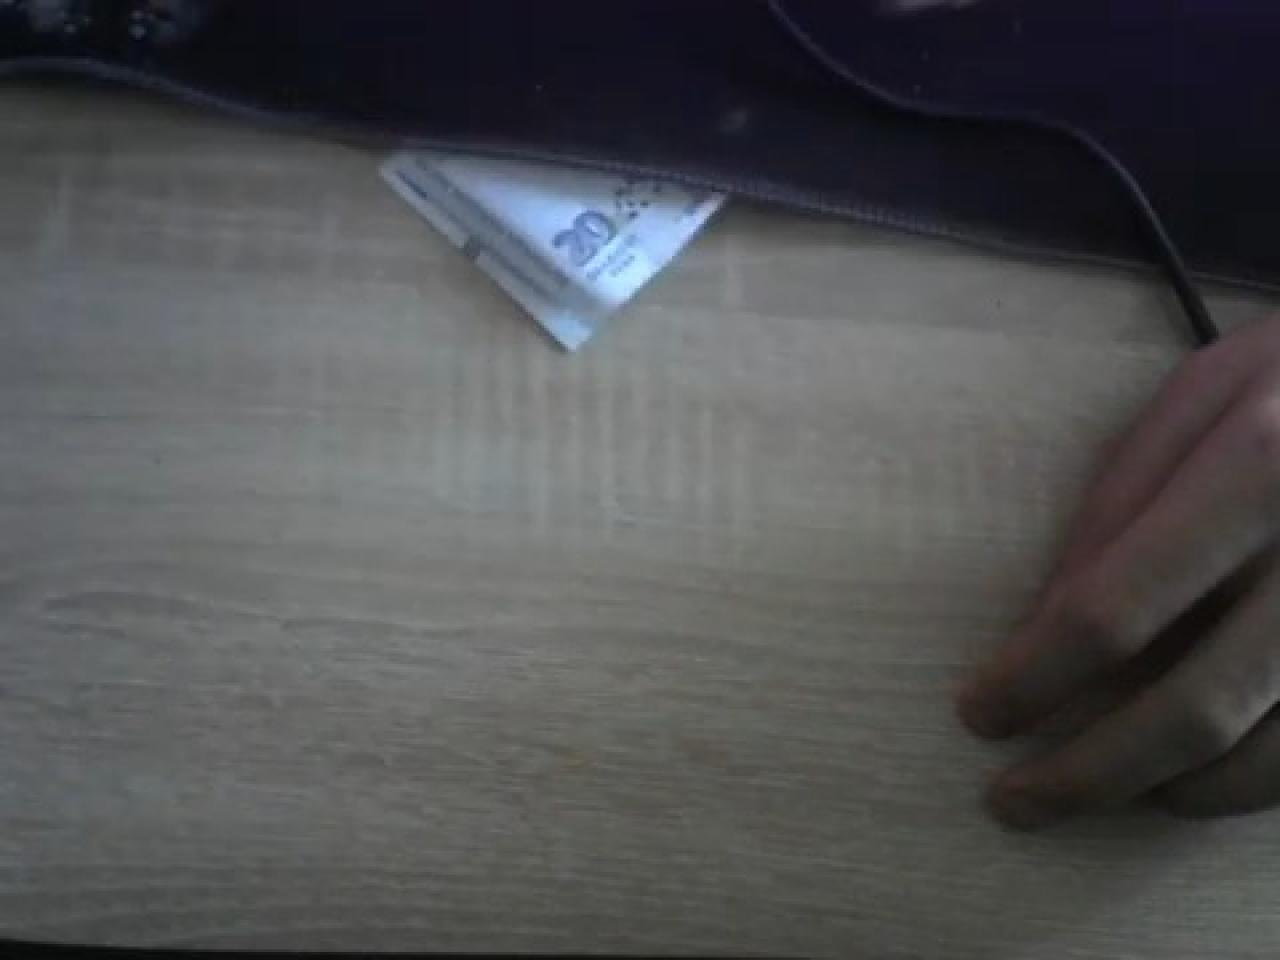20leva: (379, 152, 728, 355)
